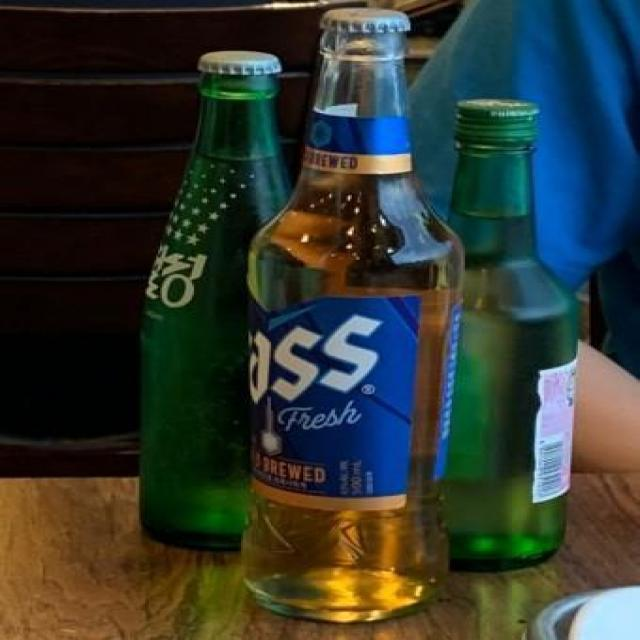beer-bottle: (244, 5, 476, 632)
soju-bottle: (436, 90, 584, 576)
